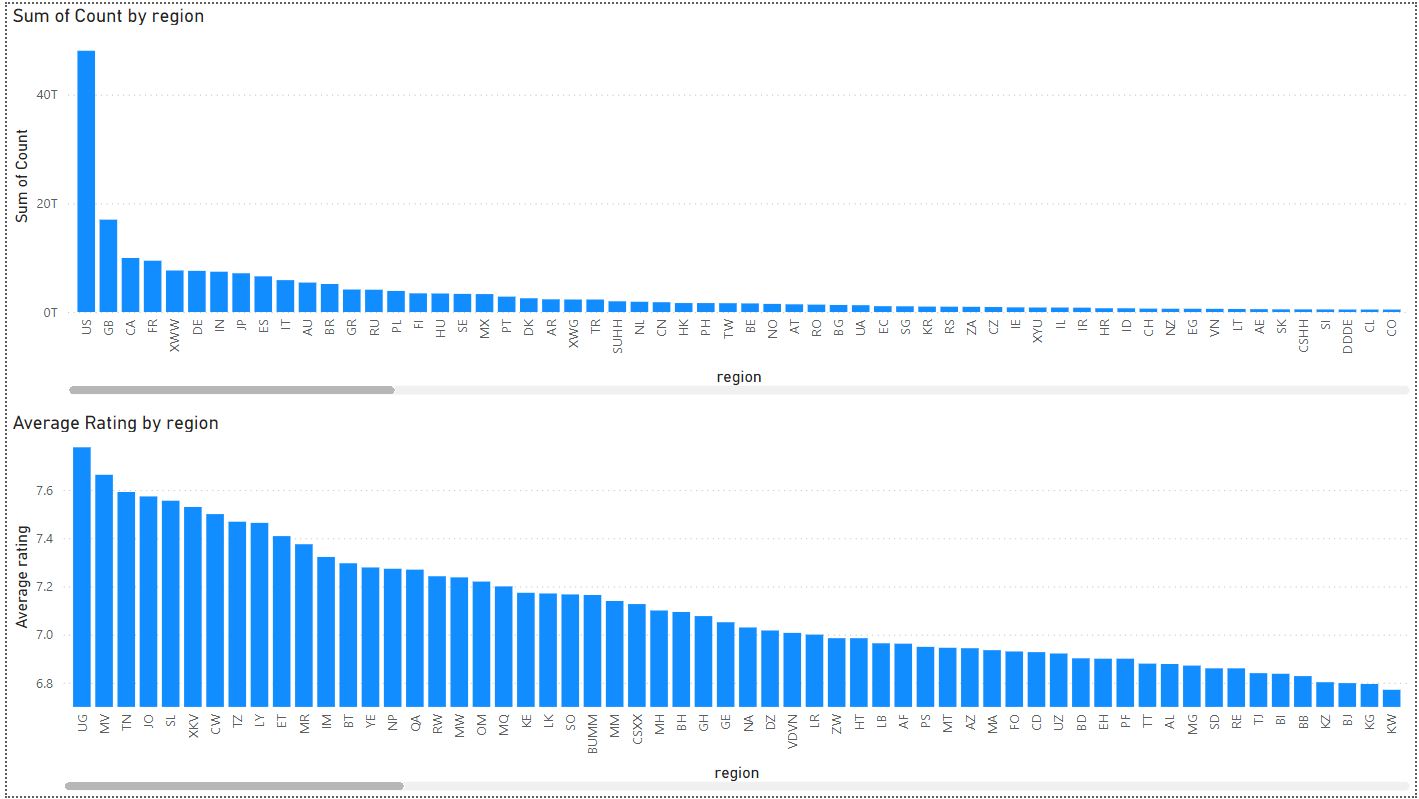

This screenshot's page, from the dashboard's own definition file:
{"tool":"powerbi","page":{"name":"Country","canvas":[1280,720],"ordinal":2},"visuals":[{"type":"clusteredColumnChart","fields":{"Category":["title_akas.region"],"Y":["Sum(title_akas.Count)"]},"box":[0,0,1280,360],"z":0},{"type":"clusteredColumnChart","title":"Average Rating by region","fields":{"Category":["title_akas.region"],"Y":["Avg(title_akas.title_ratings.average_rating)"]},"box":[0,370,1280,350],"z":1000}]}

Visuals, with their boxes in screenshot pixels (x1, y1, x2, y2), scaled from the page's 1280x720 canvas onto the 1419x799 screenshot:
clusteredColumnChart - title_akas.region x Sum(title_akas.Count): 0:0:1418:400
"Average Rating by region" clusteredColumnChart: 0:411:1418:798
